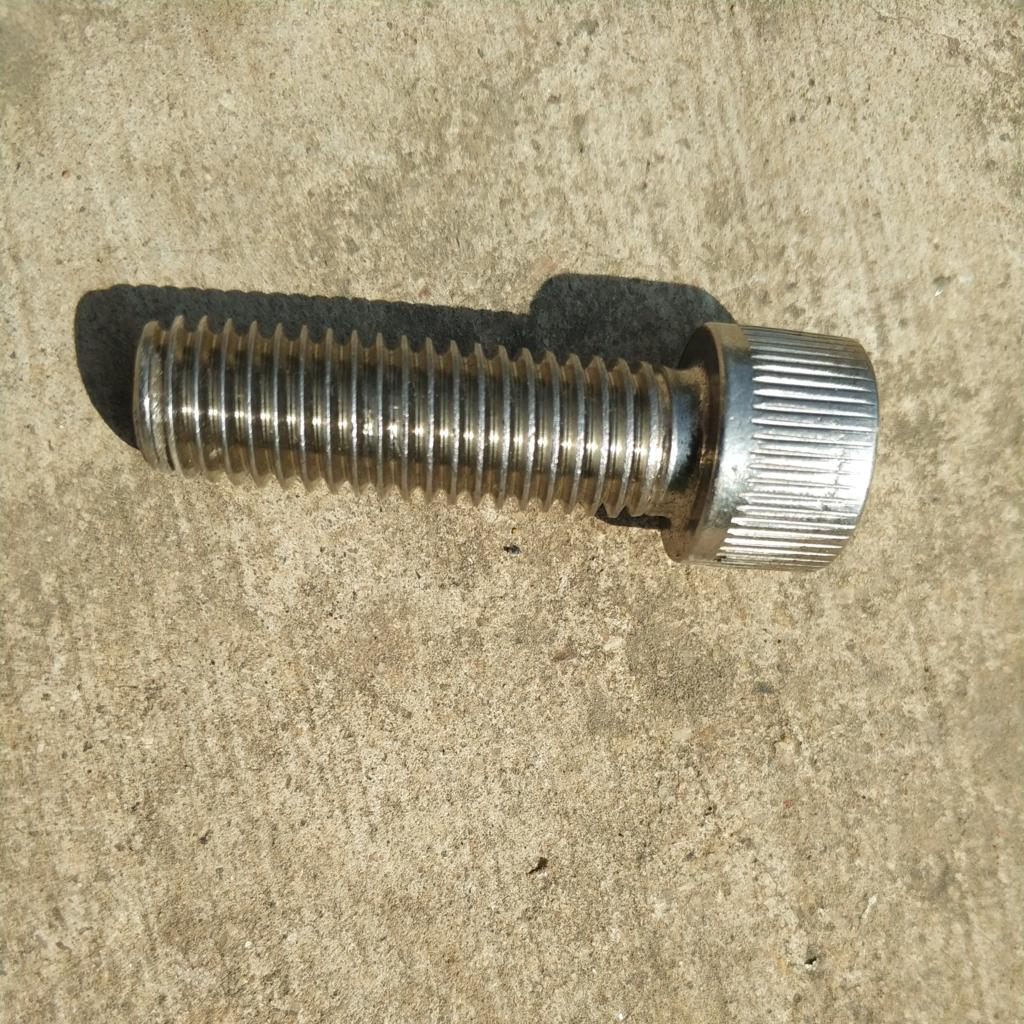screwtype1silver: (120, 293, 890, 597)
